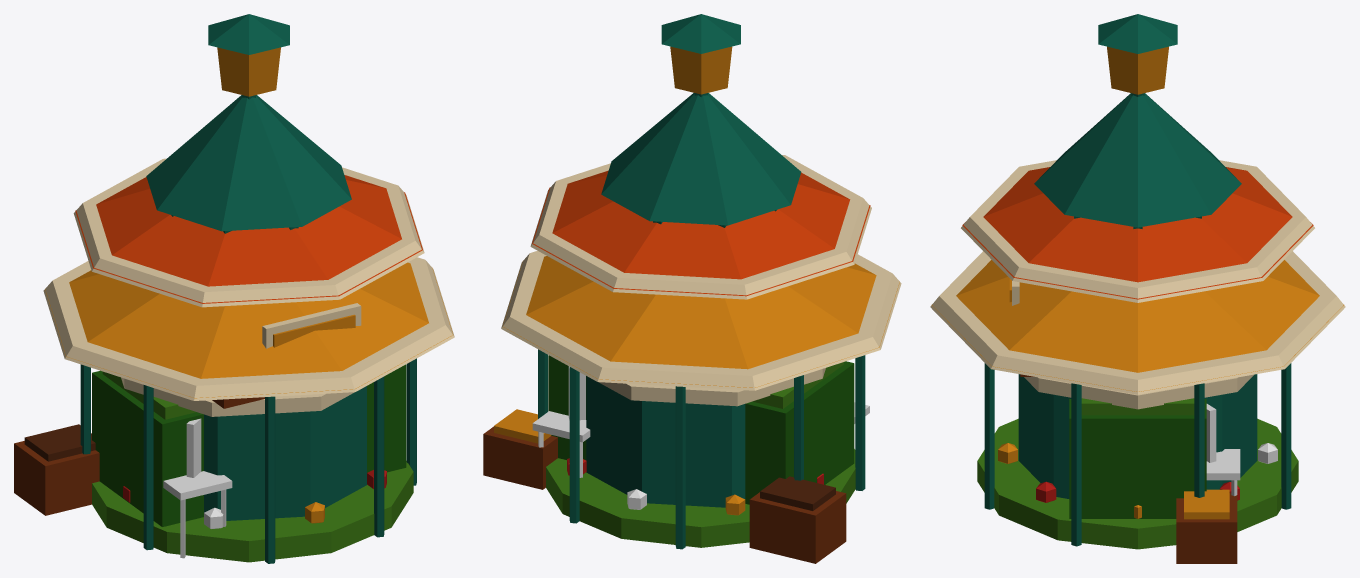
The model's file is props.glb.
The picture shows the model from 3 angles, left to right: view 1: azimuth 30°, elevation 25°; view 2: azimuth 150°, elevation 25°; view 3: azimuth 270°, elevation 25°; orthographic projection. The views are drawn at different scales.
Parts seen in each view (by area): view 1: prop_kiosk_bakery, deco_parasol, deco_hedge, deco_statue, deco_lamp; view 2: prop_kiosk_bakery, deco_parasol, deco_hedge, deco_statue, deco_lamp; view 3: prop_kiosk_bakery, deco_parasol, deco_hedge, deco_statue, deco_lamp.
Boxes of the visible parts, bbox=[...] form: prop_kiosk_bakery: bbox=[14, 95, 454, 563]; deco_parasol: bbox=[73, 158, 424, 558]; deco_hedge: bbox=[92, 364, 406, 526]; deco_statue: bbox=[92, 461, 413, 562]; deco_lamp: bbox=[208, 14, 289, 99]; prop_kiosk_bakery: bbox=[483, 93, 901, 563]; deco_parasol: bbox=[530, 155, 871, 477]; deco_hedge: bbox=[548, 355, 854, 504]; deco_statue: bbox=[546, 449, 855, 547]; deco_lamp: bbox=[661, 14, 740, 97]; prop_kiosk_bakery: bbox=[930, 93, 1345, 563]; deco_parasol: bbox=[961, 160, 1314, 496]; deco_hedge: bbox=[1069, 398, 1206, 518]; deco_statue: bbox=[977, 418, 1298, 549]; deco_lamp: bbox=[1098, 14, 1177, 96].
Size of the model in its own units: 2.72 by 3.38 by 2.72.
